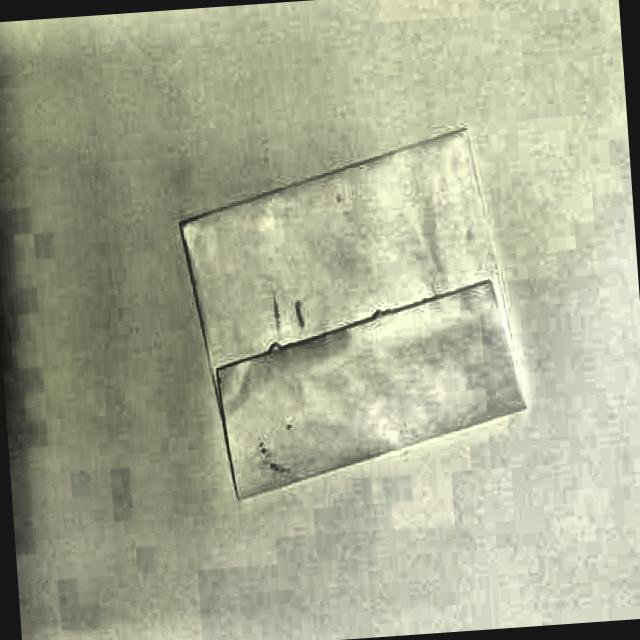paper: (176, 118, 534, 508)
